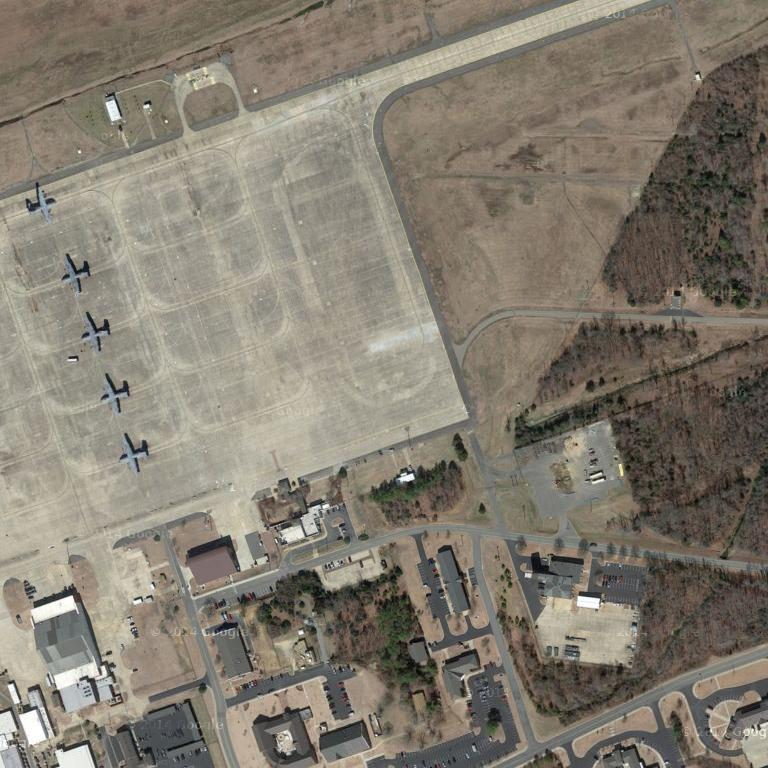C-130: (115, 432, 151, 478), (23, 181, 60, 225), (79, 309, 114, 354), (59, 251, 93, 297), (99, 371, 131, 417)
